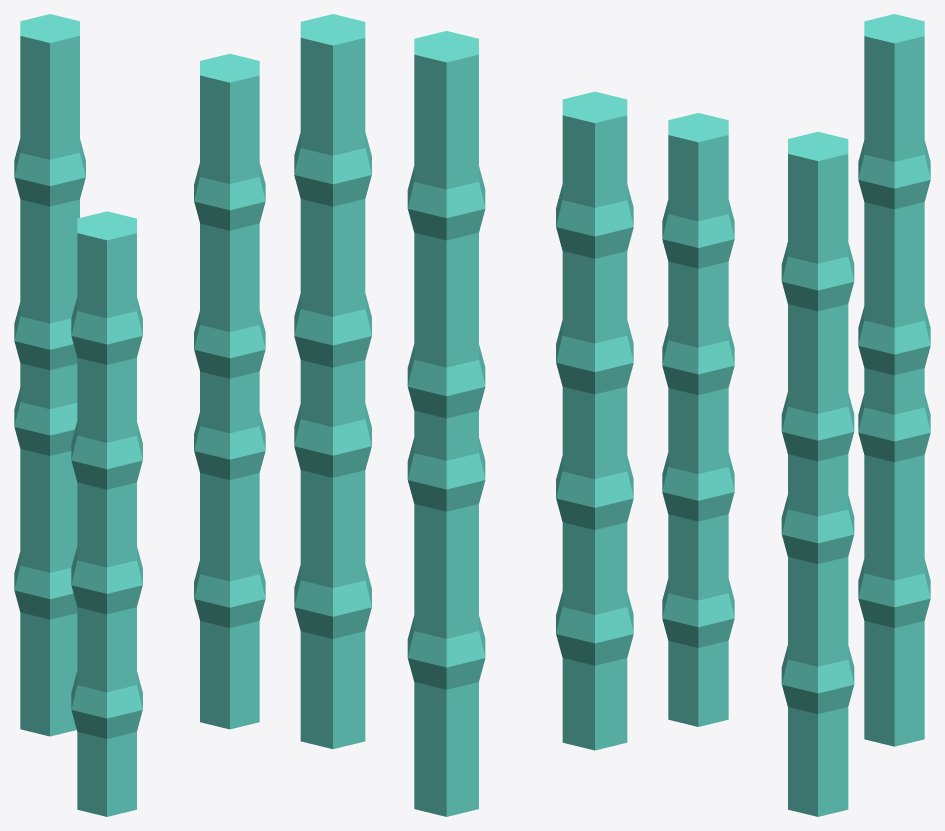
The model's file is kn_crops_bamboostageb.fbx.
3 views of the same model, side by side, from view 1: azimuth 30°, elevation 25°; view 2: azimuth 150°, elevation 25°; view 3: azimuth 270°, elevation 25° (orthographic). The views are drawn at different scales.
Visible parts, largest first — view 1: kn_crops_bamboostageb_LOD0; view 2: kn_crops_bamboostageb_LOD0; view 3: kn_crops_bamboostageb_LOD0.
Part boxes in pixels (left/top/right/bottom): kn_crops_bamboostageb_LOD0: left=14, top=14, right=265, bottom=816; kn_crops_bamboostageb_LOD0: left=294, top=14, right=633, bottom=816; kn_crops_bamboostageb_LOD0: left=662, top=14, right=930, bottom=816.
Size of what is drawn, in the model's own units: 0.9935 by 2.6 by 0.8998.
1 material, 1 textured.
